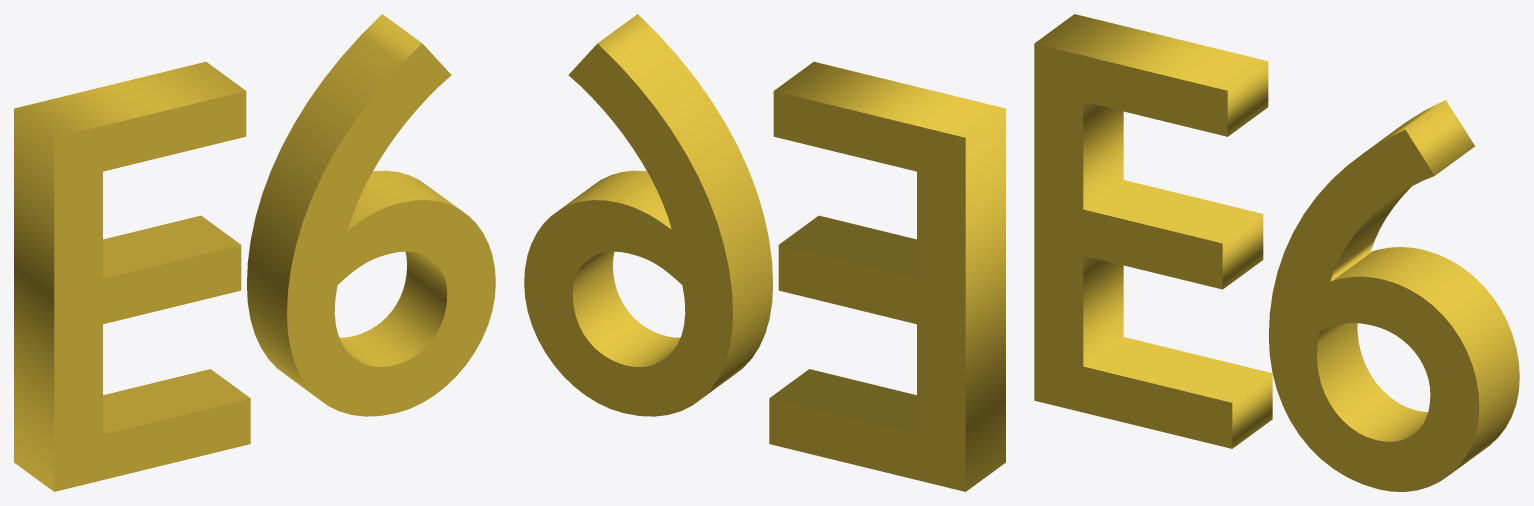
3 views of the same model, side by side, from view 1: azimuth 30°, elevation 25°; view 2: azimuth 150°, elevation 25°; view 3: azimuth 330°, elevation 25° (orthographic).
Visible parts, largest first — view 1: 텍스트; view 2: 텍스트; view 3: 텍스트.
Boxes of the visible parts, x1,y1,x2,y2 form: 텍스트: (14, 14, 495, 491); 텍스트: (524, 14, 1005, 491); 텍스트: (1034, 14, 1519, 491).
Size of the model in its own units: 89 by 70 by 14.
